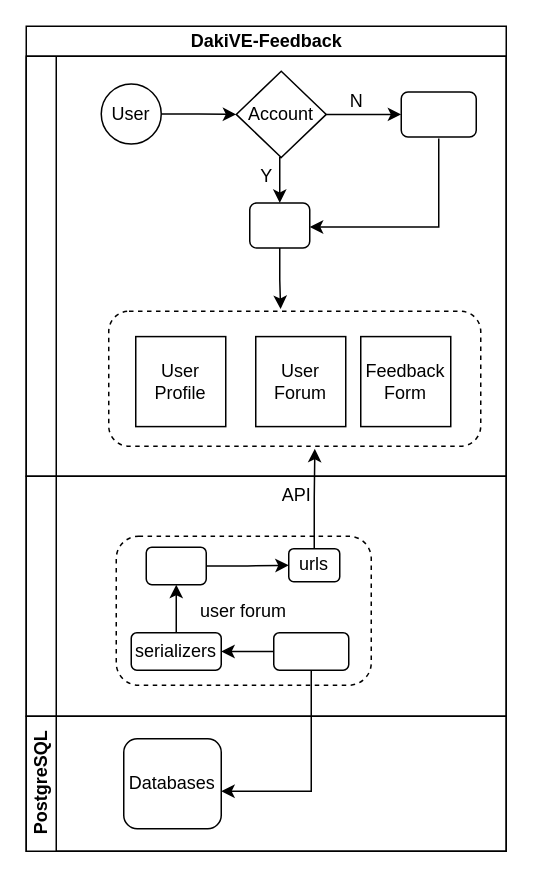
Image size: 533x878. Some labels were removed from this diagram. Each missing label, with the box of its shape:
Django: (25, 475, 506, 716)
Login: (248, 201, 310, 248)
Models: (272, 631, 349, 670)
Register: (400, 90, 476, 137)
User Interface: (25, 55, 506, 476)
views: (145, 546, 206, 585)
